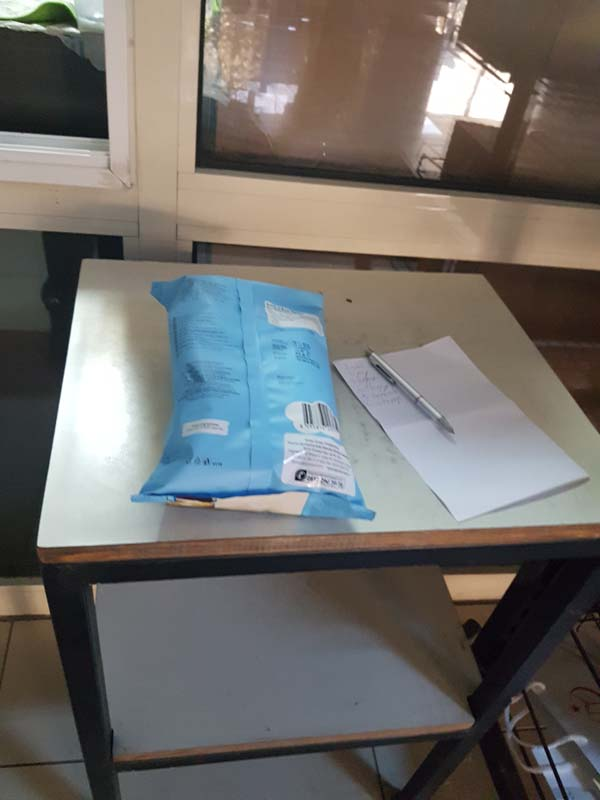popcorn: (137, 271, 378, 539)
